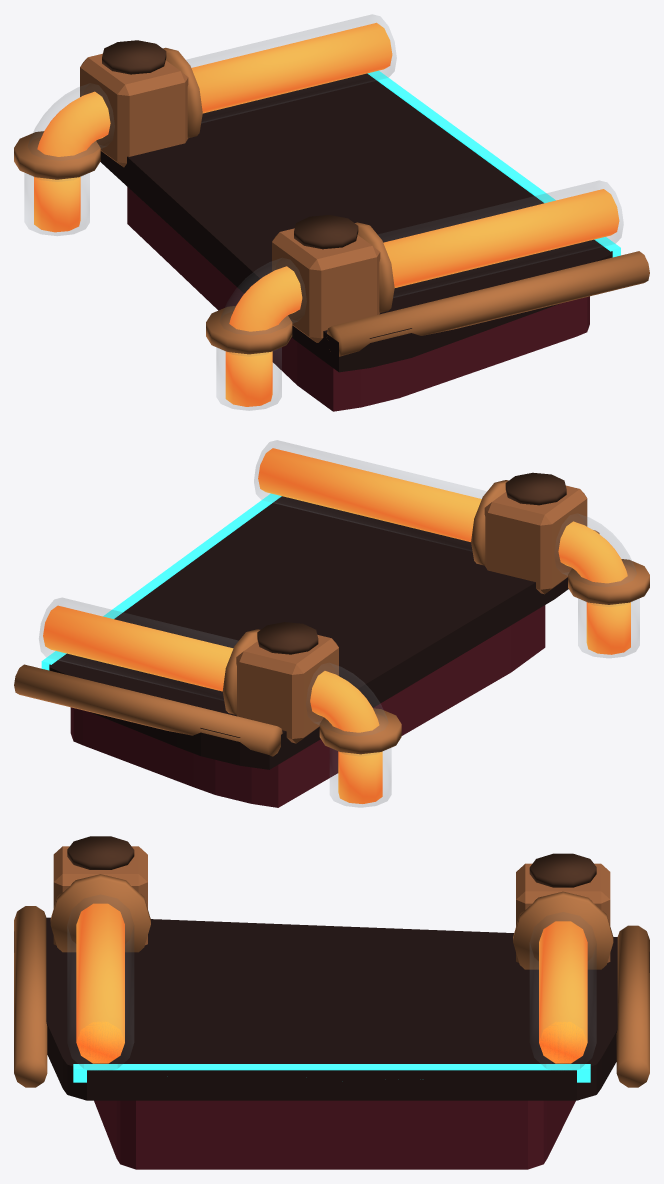
File: Pier_Angled_05.glb
3 views of the same model, one above another, from view 1: azimuth 30°, elevation 25°; view 2: azimuth 150°, elevation 25°; view 3: azimuth 270°, elevation 25° (orthographic). The views are drawn at different scales.
Visible parts, largest first — view 1: CP_Pier_Angled_05; view 2: CP_Pier_Angled_05; view 3: CP_Pier_Angled_05.
Part boxes in pixels (left/top/right/bottom): CP_Pier_Angled_05: left=14, top=14, right=649, bottom=411; CP_Pier_Angled_05: left=14, top=440, right=649, bottom=807; CP_Pier_Angled_05: left=14, top=836, right=649, bottom=1169.
Size of the model in its own units: 3.06 by 1.31 by 4.18.
